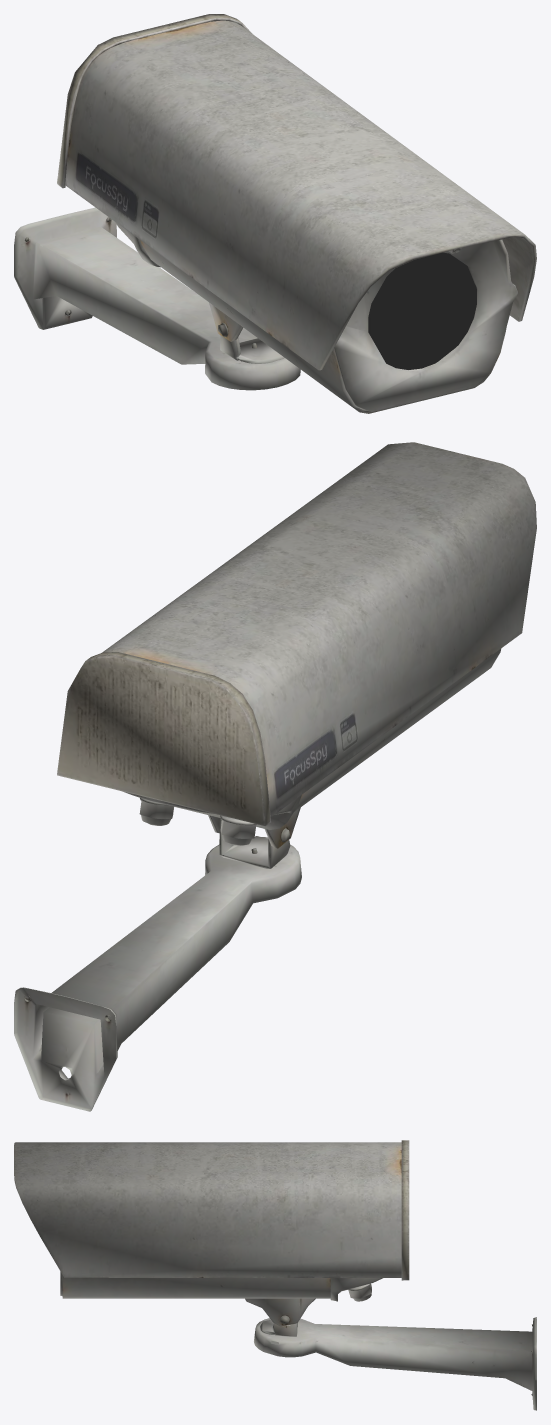
File: secCam_hq.glb
3 renders of one model, top to bottom at view 1: azimuth 30°, elevation 25°; view 2: azimuth 150°, elevation 25°; view 3: azimuth 270°, elevation 25°, orthographic. The views are drawn at different scales.
Parts seen in each view (by area): view 1: security_camera_01; view 2: security_camera_01; view 3: security_camera_01.
Part boxes in pixels (x1,y1,x2,y2): security_camera_01: [14, 14, 536, 413]; security_camera_01: [14, 442, 536, 1111]; security_camera_01: [14, 1140, 536, 1410].
Size of the model in its own units: 0.1696 by 0.2854 by 0.5536.
Materials: 2 (2 with a texture image).
